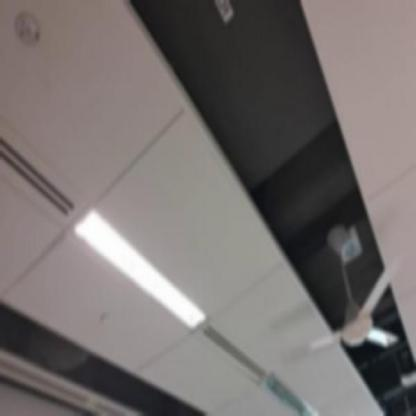light_on: (70, 191, 214, 341)
